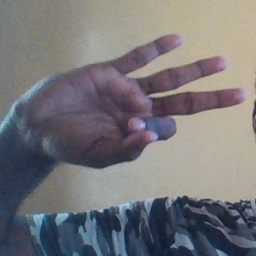K: (8, 33, 246, 170)
